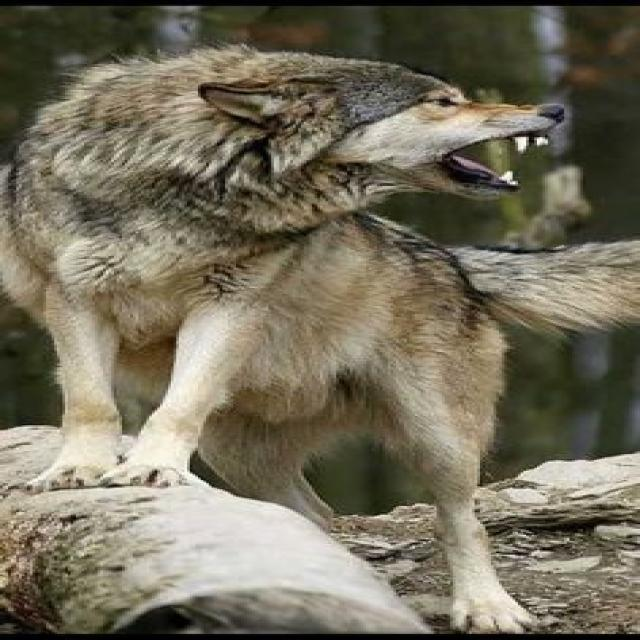Carnivorous: (0, 46, 640, 632)
